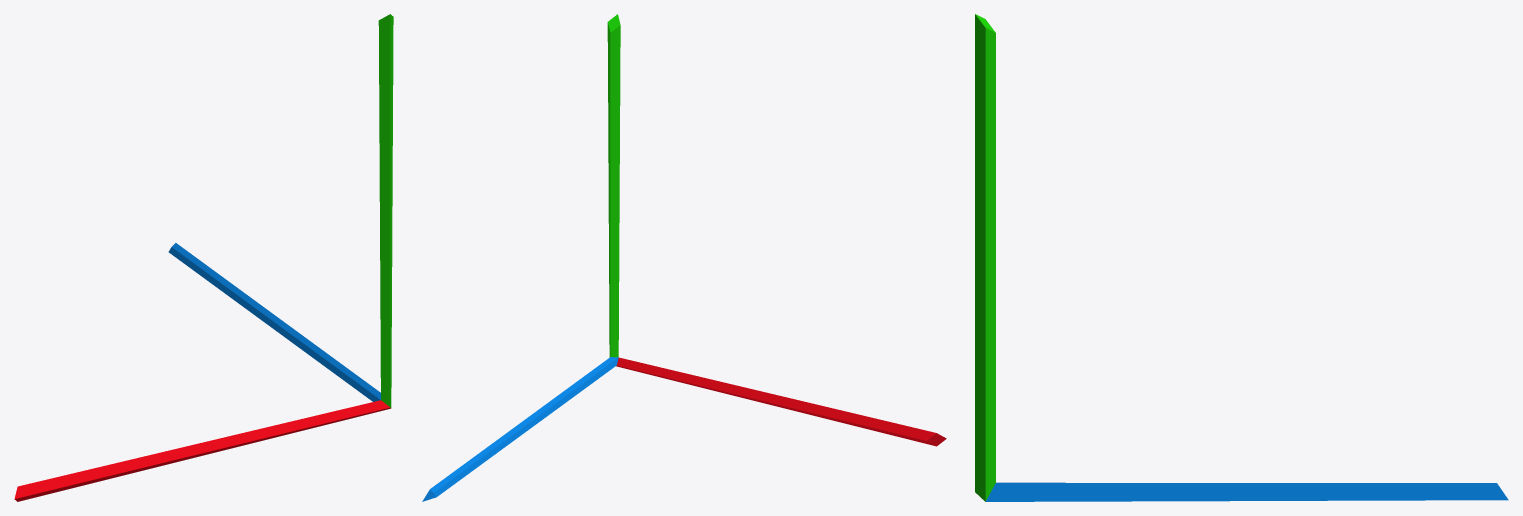
The model's file is axis.glb.
The picture shows the model from 3 angles, left to right: view 1: azimuth 30°, elevation 25°; view 2: azimuth 150°, elevation 25°; view 3: azimuth 270°, elevation 25°; orthographic projection. The views are drawn at different scales.
Visible parts, largest first — view 1: 坐标轴; view 2: 坐标轴; view 3: 坐标轴.
Boxes of the visible parts, x1,y1,x2,y2 form: 坐标轴: (14,14,393,501); 坐标轴: (422,14,946,501); 坐标轴: (975,14,1508,501).
Bounding box in the file's own units: 2.08 × 2.08 × 2.06.
